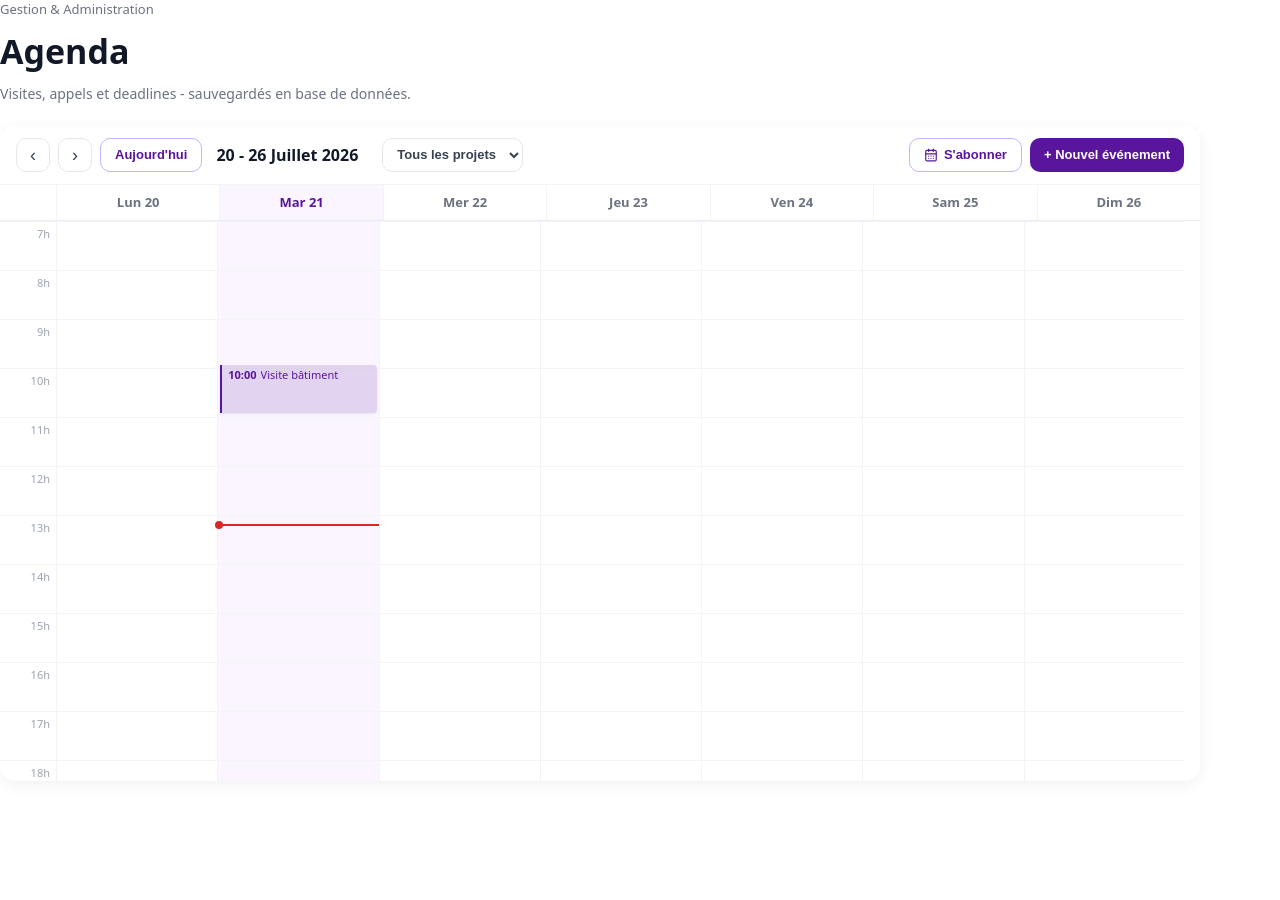
Agenda - édition d'un événement (P20) › Modifier pré-remplit le formulaire et PATCH met à jour l'événement
expect the text "Visite bâtiment" is shown: met, box [261, 367, 338, 384]
// Clic sur le bloc → ouverture de la modale en édition
Click the element titled "Visite bâtiment" at {"x": 298, "y": 389}, box [220, 365, 377, 413]
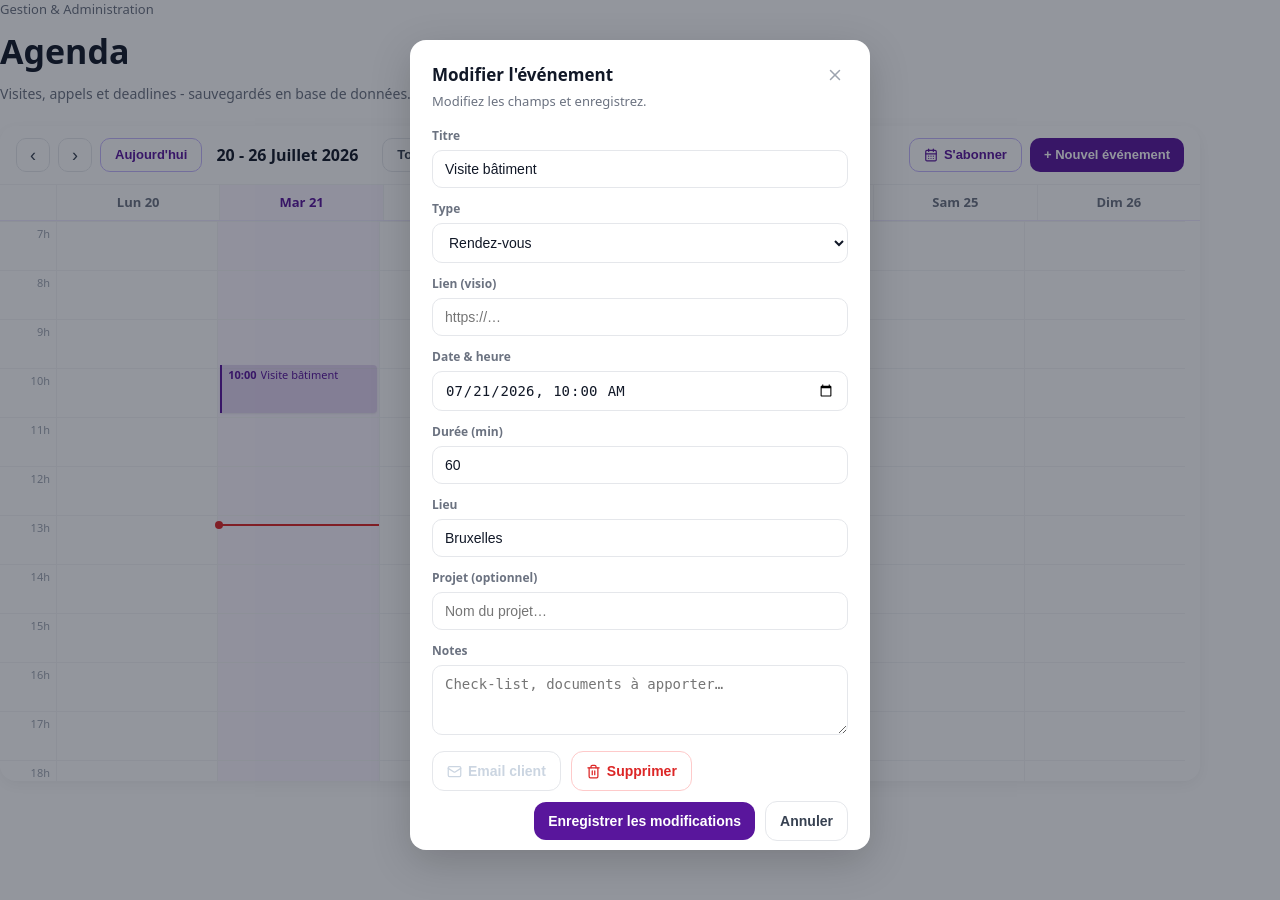
expect the field showing "Visite bâtiment" is shown: met
expect the button "Enregistrer les modifications" is shown: met, box [534, 802, 755, 840]
// Modification du titre + soumission (PATCH)
Replace the text in the field showing "Visite bâtiment" with "Visite bâtiment (reportée)" at {"x": 640, "y": 169}, box [432, 150, 848, 188]
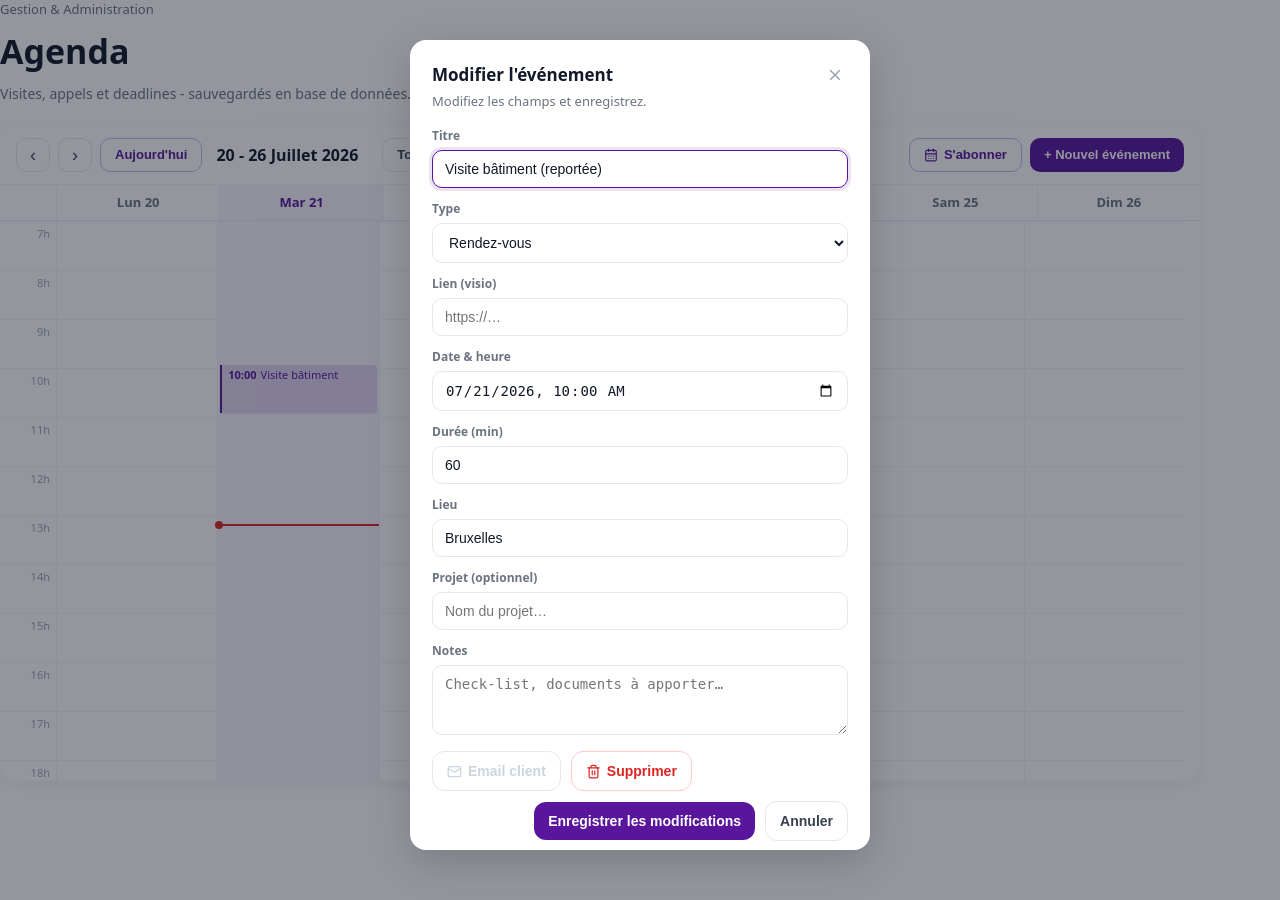
Click the button "Enregistrer les modifications" at {"x": 645, "y": 821}, box [534, 802, 755, 840]
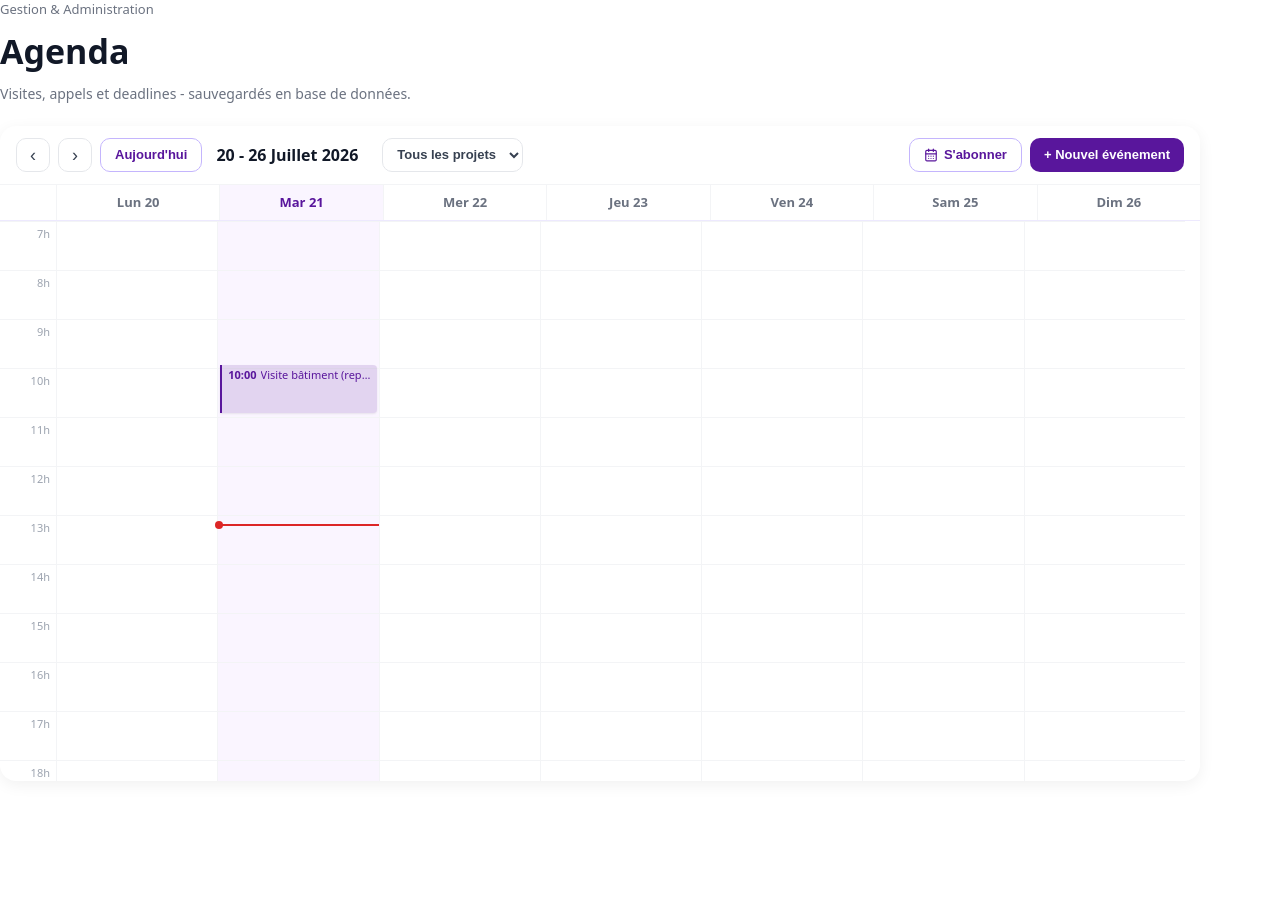
expect the text "Visite bâtiment (reportée)" is shown: met, box [261, 367, 371, 384]
expect the button "Enregistrer les modifications" is gone: met
